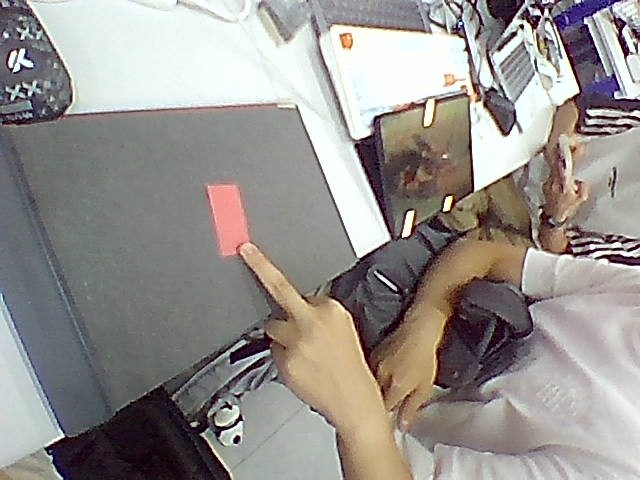card: (207, 184, 249, 255)
